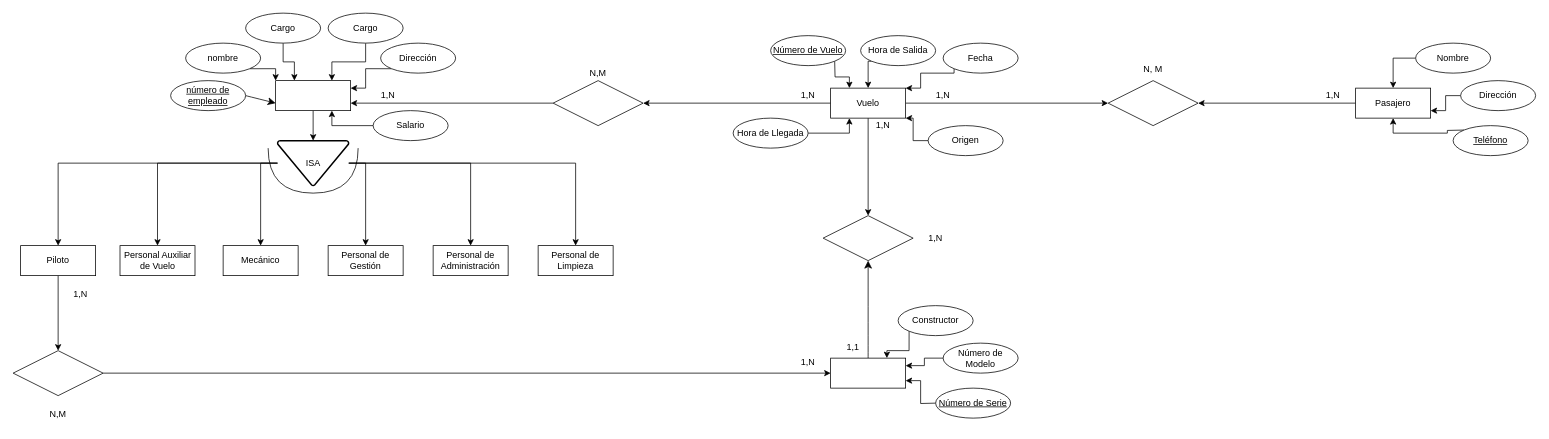
The diagram is 1549 pixels wide and 439 high, and some of its shapes have lost their labels. Each missing label, with the centre of its shape:
"Asigna" goes at pixel 597 103.
"Aviones" goes at pixel 868 372.
"Capacidad" goes at pixel 57 373.
"Empleado" goes at pixel 313 95.
"Realiza" goes at pixel 867 238.
"Registrado" goes at pixel 1152 103.
